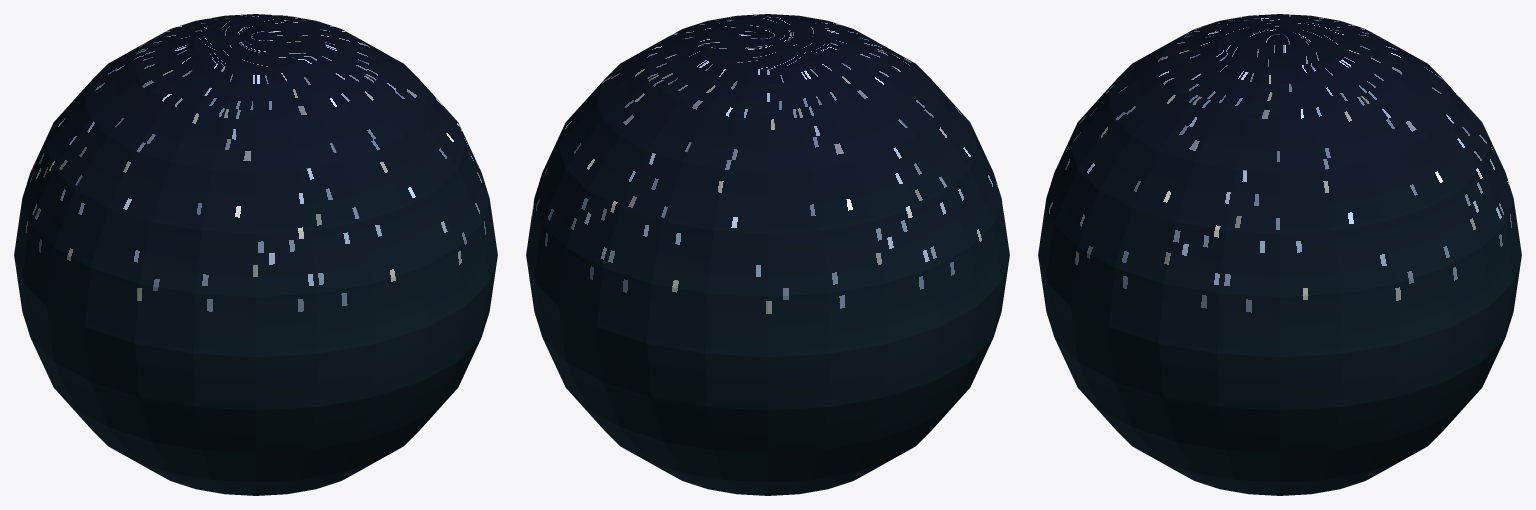
File: night.glb
3 renders of one model, left to right at view 1: azimuth 30°, elevation 25°; view 2: azimuth 150°, elevation 25°; view 3: azimuth 270°, elevation 25°, orthographic.
Parts seen in each view (by area): view 1: sky_night; view 2: sky_night; view 3: sky_night.
Part boxes in pixels (x1=…): sky_night: x1=14, y1=14, x2=497, y2=495; sky_night: x1=526, y1=14, x2=1009, y2=495; sky_night: x1=1038, y1=14, x2=1521, y2=495.
Bounding box in the file's own units: 18000 × 18000 × 18000.
2 materials, 2 textured.
